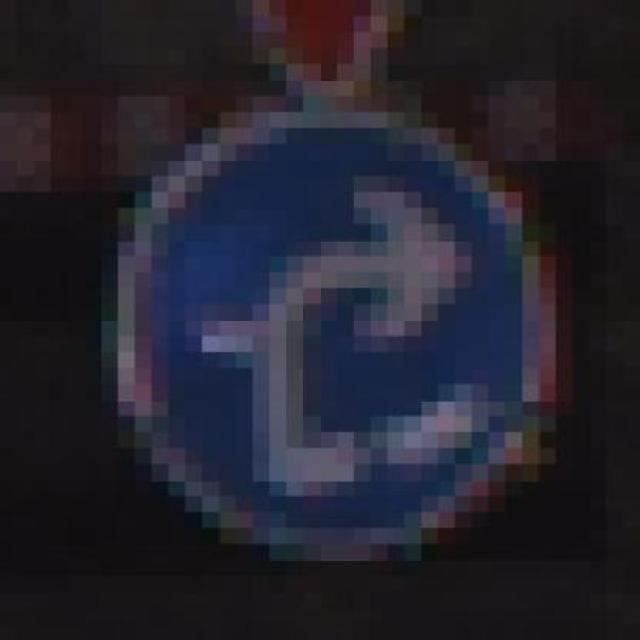Turn right ahead: (84, 80, 573, 560)
